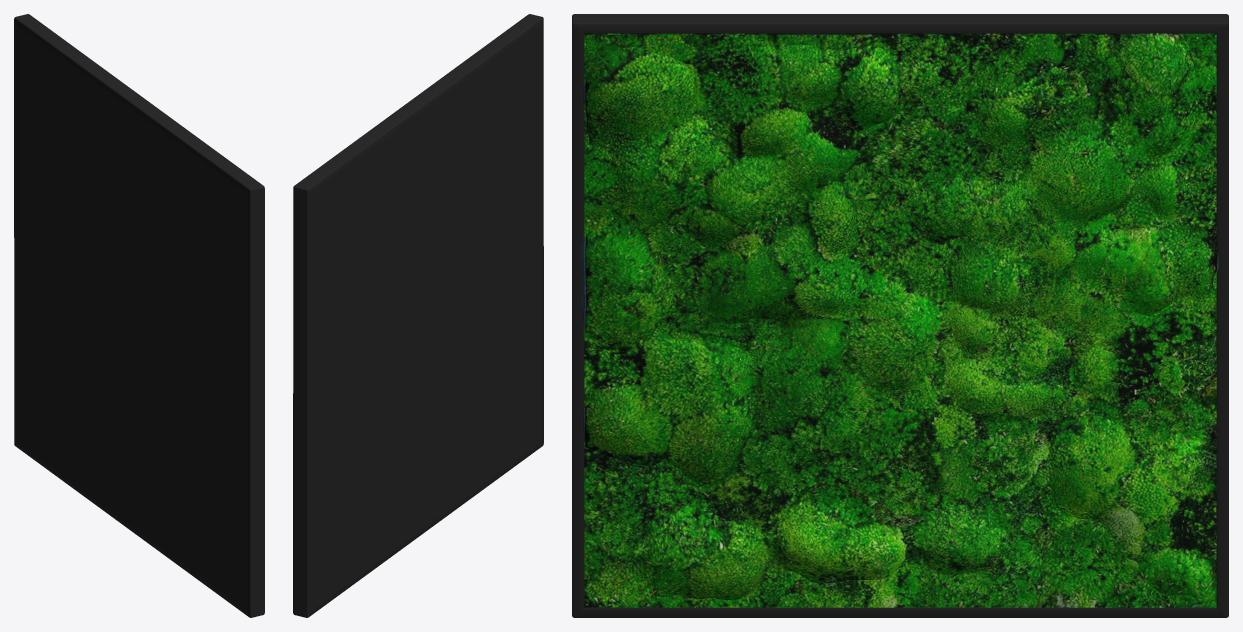
Rendered from Moosbild_Hugelmoos_800x800mm_black.fbx.
3 renders of one model, left to right at view 1: azimuth 30°, elevation 25°; view 2: azimuth 150°, elevation 25°; view 3: azimuth 270°, elevation 25°, orthographic. The views are drawn at different scales.
Visible parts, largest first — view 1: edge; view 2: edge; view 3: moss8, moss_low, edge.
Boxes of the visible parts, x1,y1,x2,y2 form: edge: [14, 14, 264, 617]; edge: [293, 14, 543, 617]; moss8: [580, 33, 1218, 600]; moss_low: [584, 34, 1216, 607]; edge: [572, 14, 1228, 617].
Bounding box in the file's own units: 5.6 × 80 × 80.
Materials: 2 (1 with a texture image).
